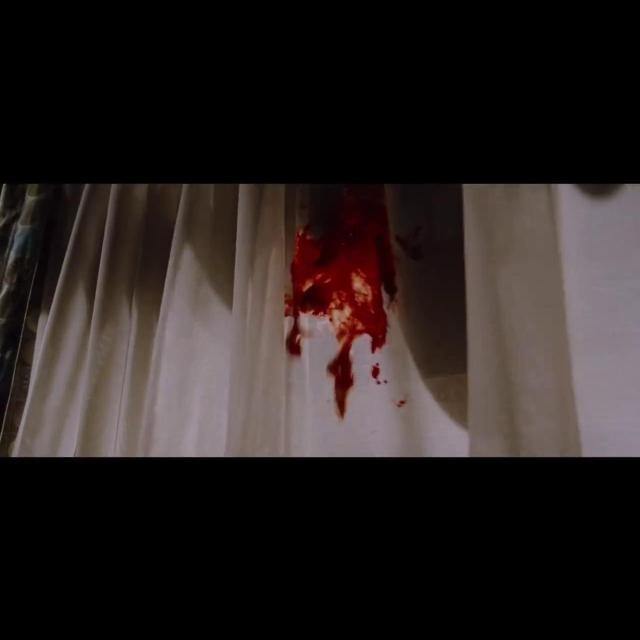blood: (286, 184, 400, 420), (396, 396, 410, 408)
